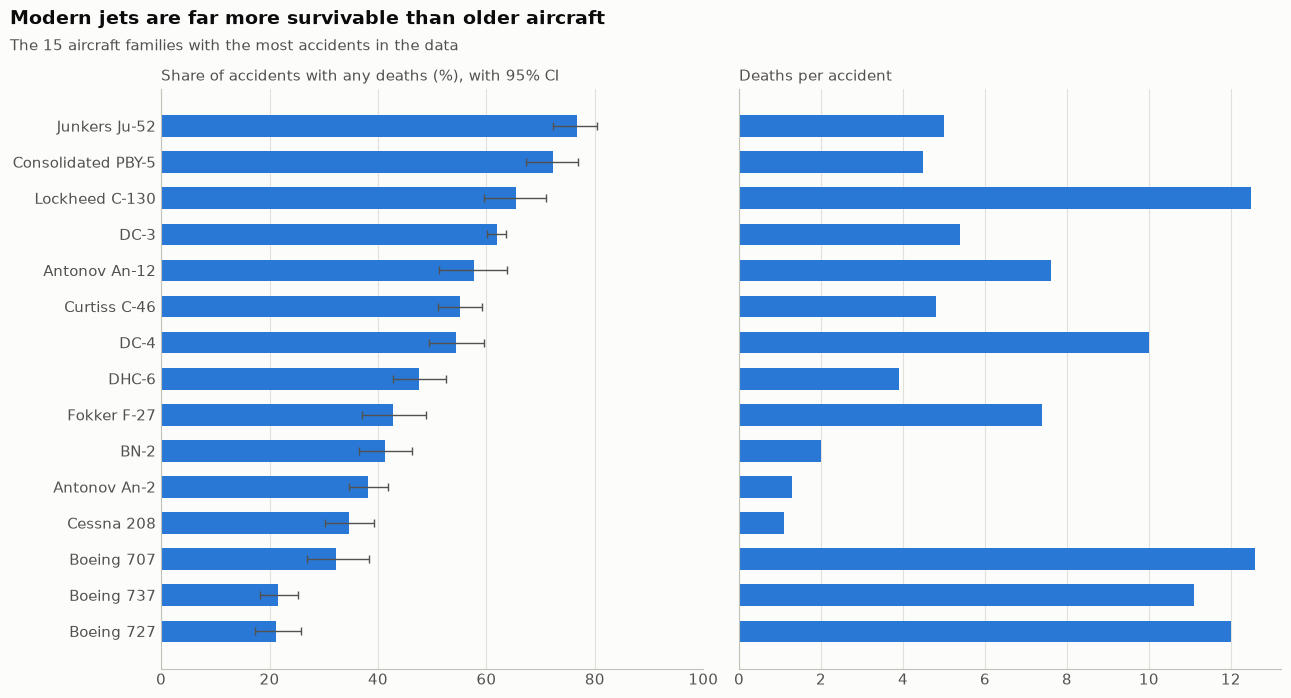

This screenshot's page, from the dashboard's own definition file:
{"tool":"tableau","page":{"name":"5 Aircraft","canvas":[1200,700],"ordinal":4},"visuals":[{"type":"worksheet","title":"Aircraft","mark":"Automatic","rows":["aircraft_family"],"cols":["pct_fatal","ci_low"],"box":[8,8,957,641]},{"type":"text","box":[965,8,227,641]},{"type":"text","box":[8,649,1184,43]}]}

Visuals, with their boxes on the page's 1200x700 design canvas (x1, y1, x2, y2). These are canvas units, not pixel positions in the 1291x698 screenshot, which may show the page scaled, cropped or inside an application window:
"Aircraft" worksheet: {"x1": 8, "y1": 8, "x2": 965, "y2": 649}
text: {"x1": 965, "y1": 8, "x2": 1192, "y2": 649}
text: {"x1": 8, "y1": 649, "x2": 1192, "y2": 692}
